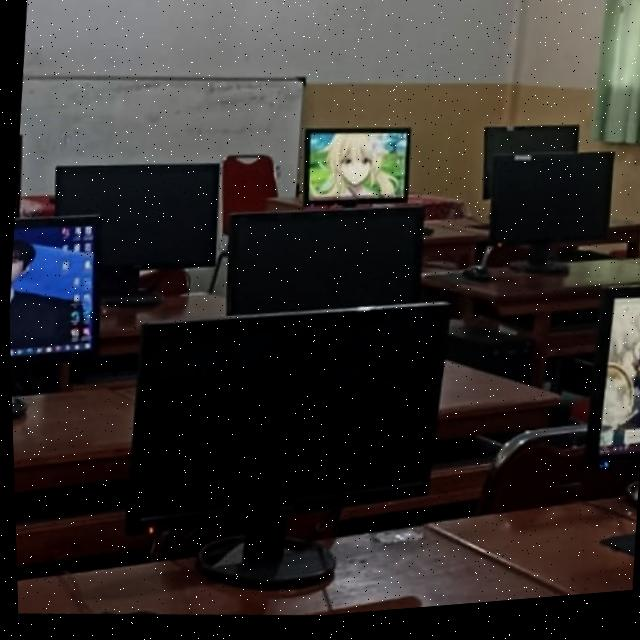offscreen: (124, 309, 445, 535), (225, 210, 421, 318), (55, 168, 217, 269), (488, 164, 612, 250), (484, 135, 578, 176)
onscreen: (8, 218, 95, 356), (304, 133, 408, 206)
